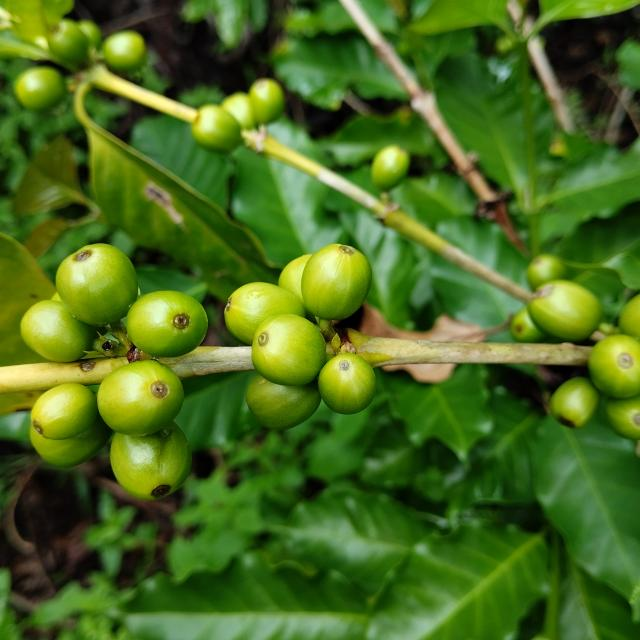green: (55, 243, 137, 326), (96, 360, 184, 437), (110, 422, 191, 501), (126, 290, 208, 358), (251, 314, 326, 386), (301, 244, 372, 320), (224, 282, 306, 345), (19, 300, 97, 362), (528, 280, 603, 341), (29, 415, 112, 468), (246, 375, 321, 431), (30, 384, 97, 441), (318, 353, 376, 415), (589, 334, 640, 398), (551, 377, 601, 428), (191, 104, 242, 153), (13, 65, 65, 110), (102, 30, 146, 71), (371, 145, 410, 191), (278, 254, 312, 304), (606, 394, 640, 441), (511, 307, 546, 343)
